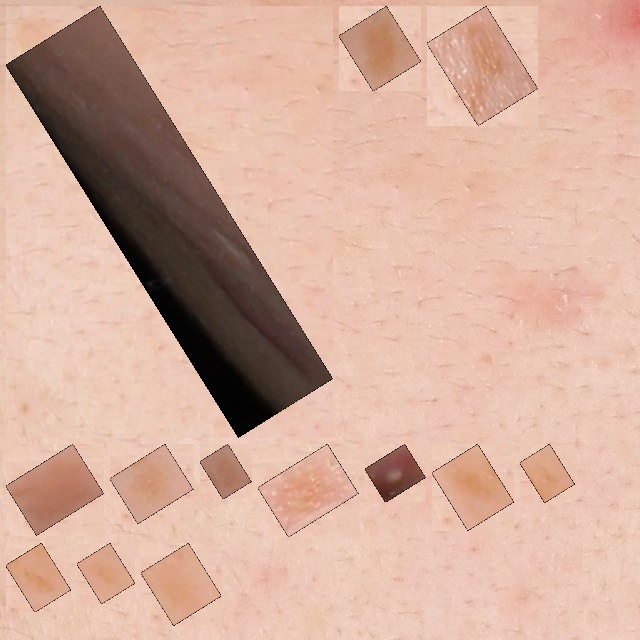hypertrophic_scar: (17, 17, 322, 426)
melasma: (438, 17, 527, 114), (269, 455, 347, 526), (17, 455, 93, 524), (443, 455, 503, 519), (350, 17, 410, 80), (152, 554, 210, 614), (121, 455, 182, 512), (17, 554, 60, 601), (88, 554, 124, 593), (531, 455, 564, 491), (211, 455, 240, 488)
pustule: (376, 455, 415, 491)
